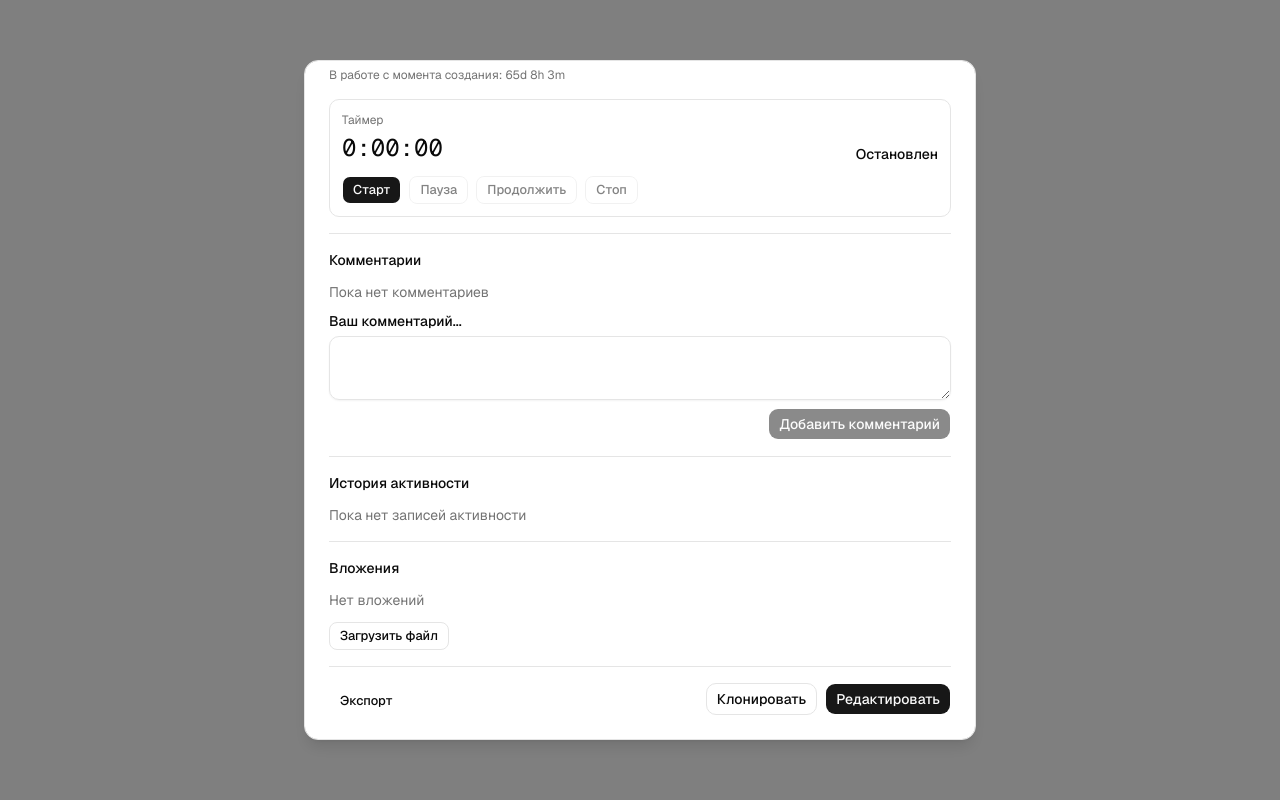
Test: TaskDetail edit mode › does not send a PATCH when Save is clicked without any changes
(page scrolled)
What coordinates should you click on to do the following:
click the button with test id "task-detail-edit"
I would click on:
 (888, 699)
Its box is [825,683,951,715].
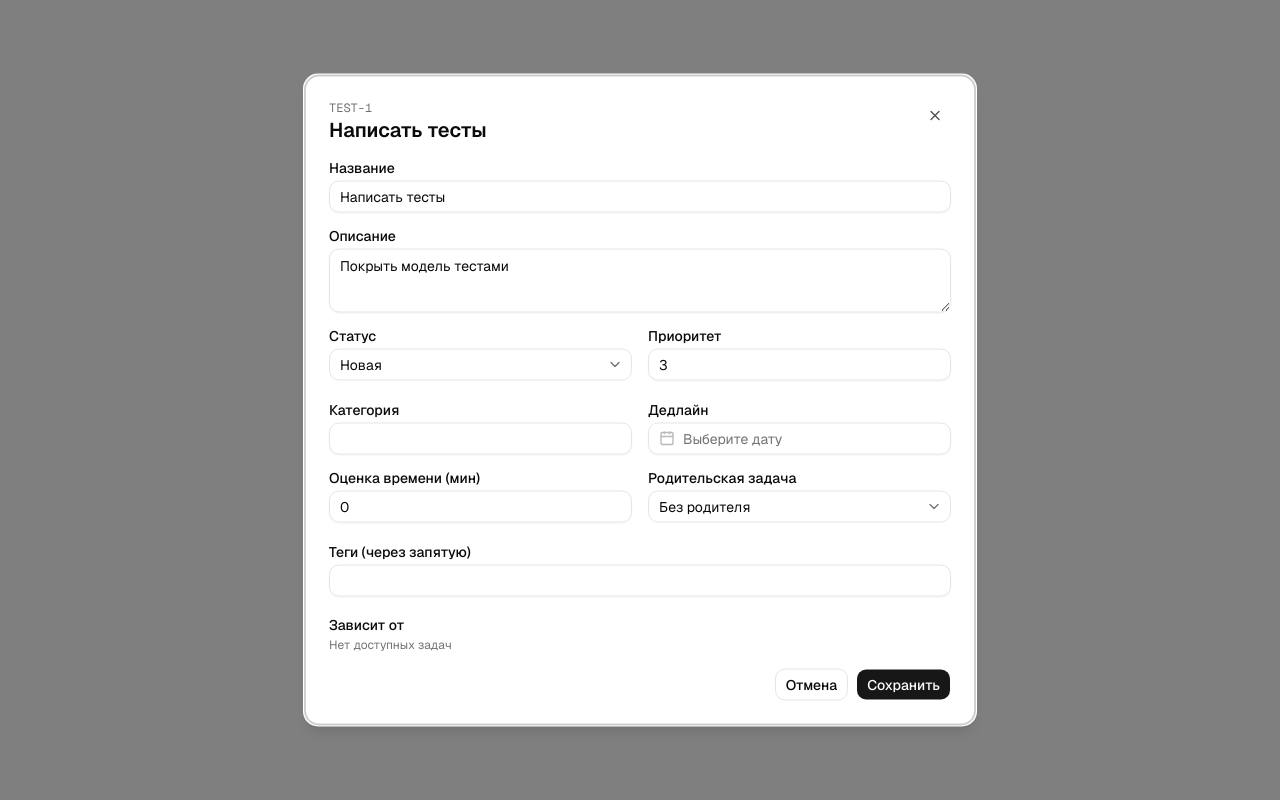
What coordinates should you click on to do the following:
click the button with test id "task-edit-save"
I would click on:
 (904, 684)
Its box is [856,668,951,700].
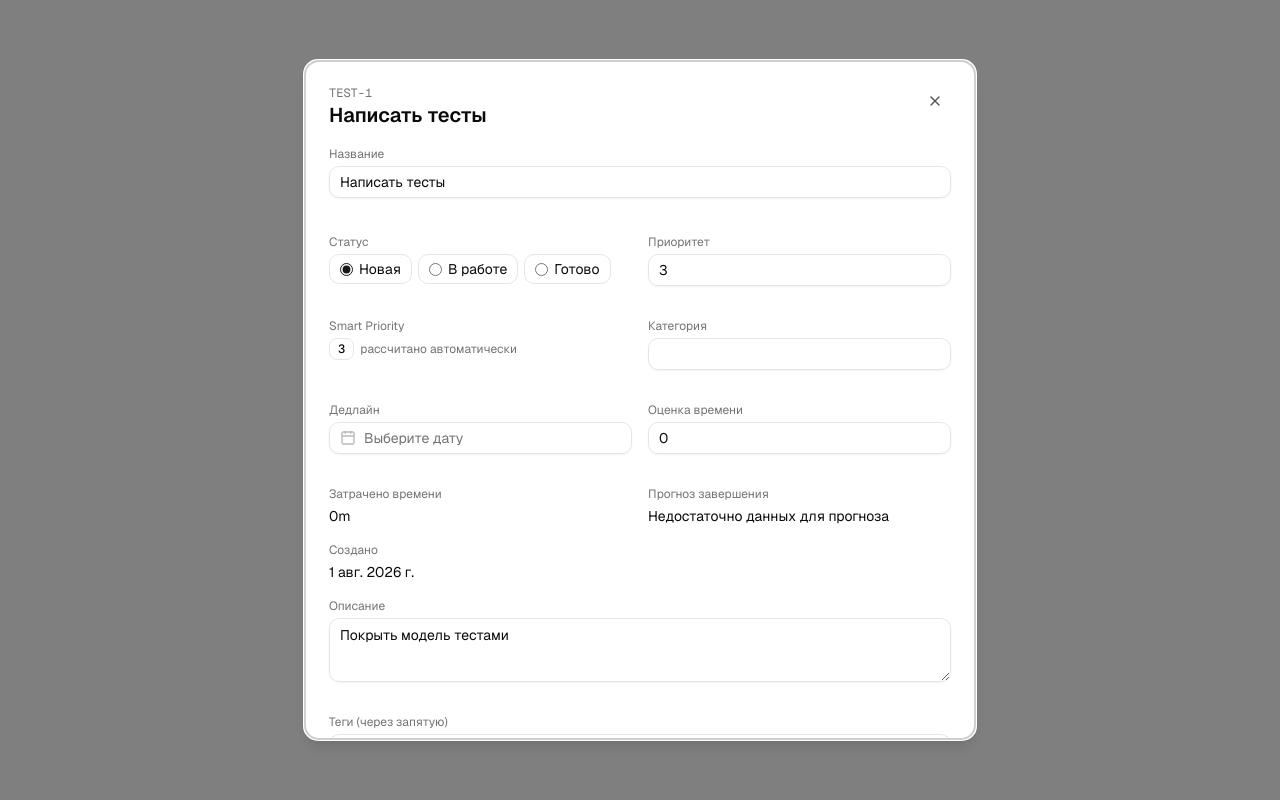
Now the form with test id "task-edit-form" is gone
